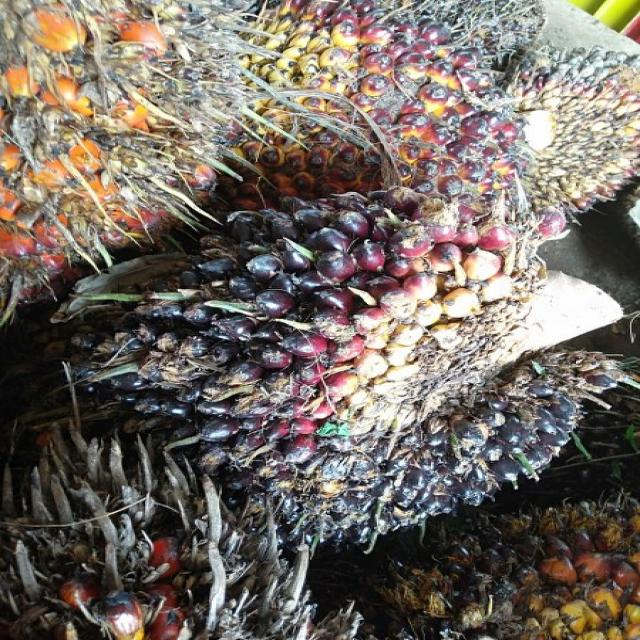fraksi 00: (82, 206, 610, 539)
